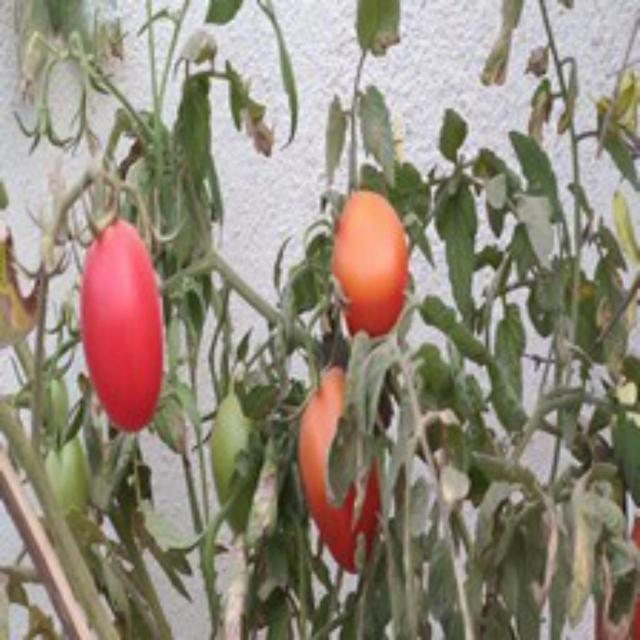tomato: (70, 214, 184, 456)
